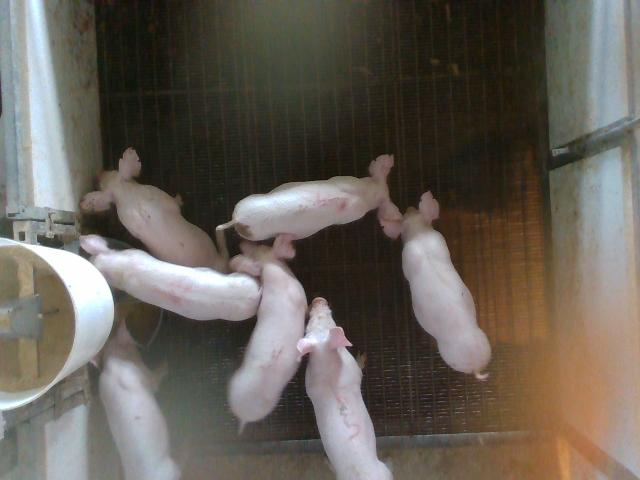pig-3: (298, 298, 392, 479)
pig-4: (80, 235, 261, 321)
pig-5: (216, 155, 401, 241)
